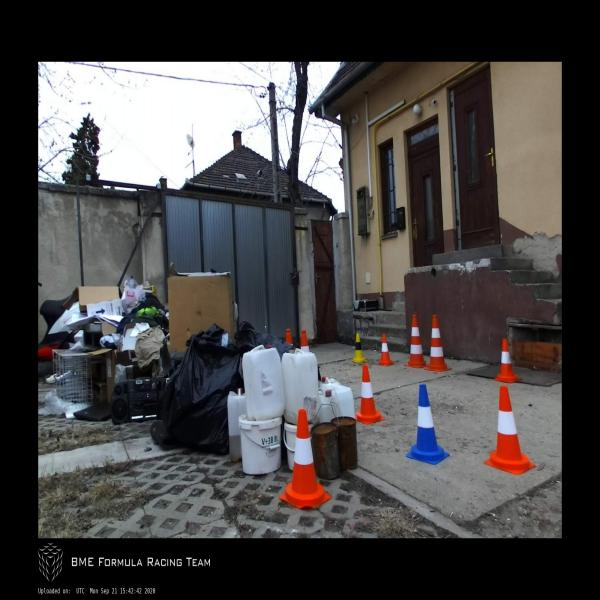blue_cone: (406, 384, 449, 465)
large_orange_cone: (424, 315, 452, 371), (404, 314, 429, 369), (301, 331, 309, 351), (285, 329, 293, 345)
orange_cone: (279, 409, 331, 509), (484, 385, 536, 476), (355, 364, 385, 424), (494, 338, 520, 384), (378, 334, 394, 366)
yellow_cone: (352, 332, 367, 363)
